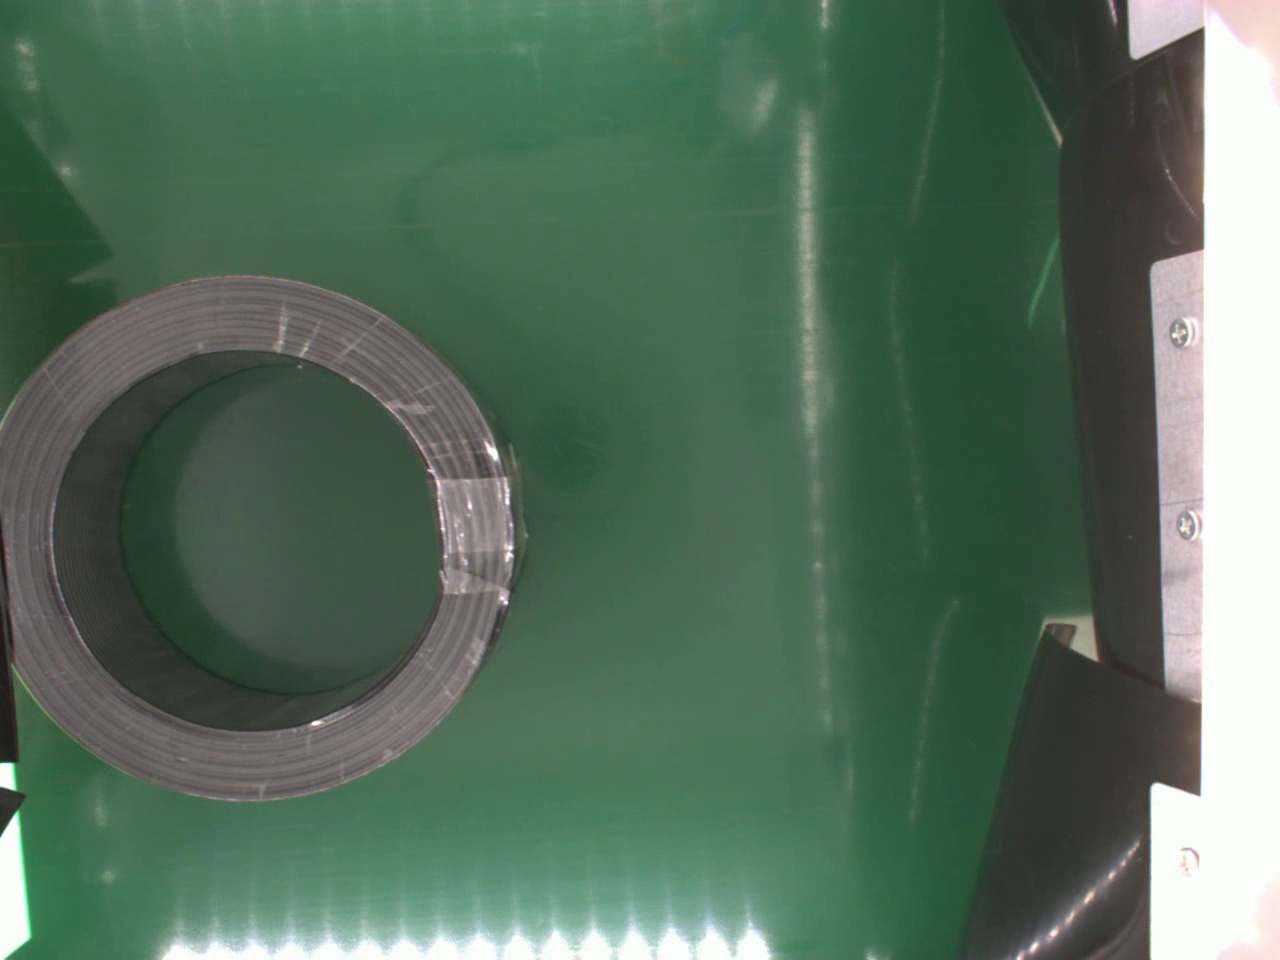black: (0, 268, 522, 804)
